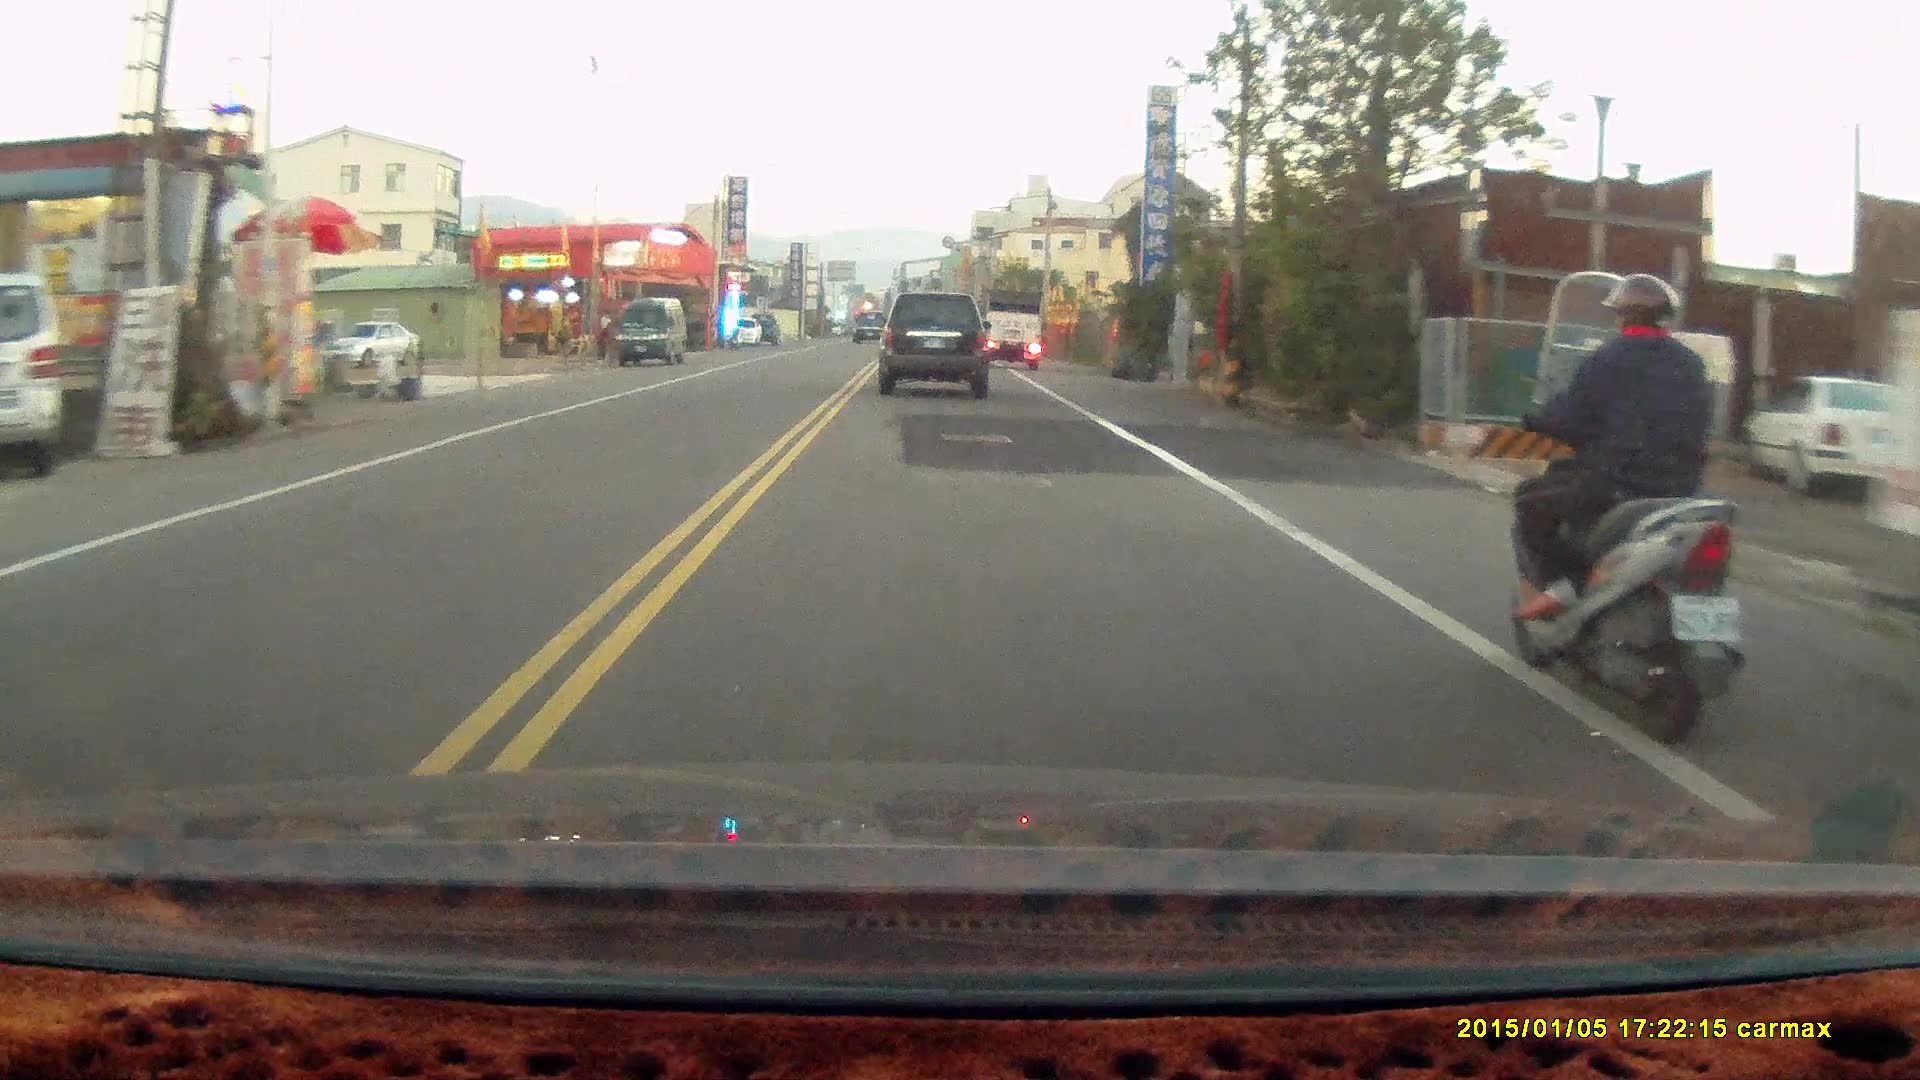rider: (1503, 266, 1746, 745)
vehicle: (1, 271, 68, 480), (879, 290, 993, 402), (983, 287, 1046, 368), (615, 299, 686, 370), (323, 320, 420, 368)
